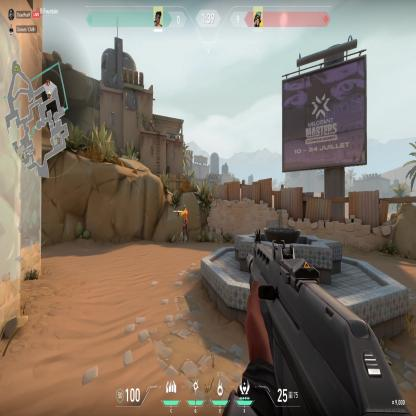enemy: (176, 202, 190, 245)
